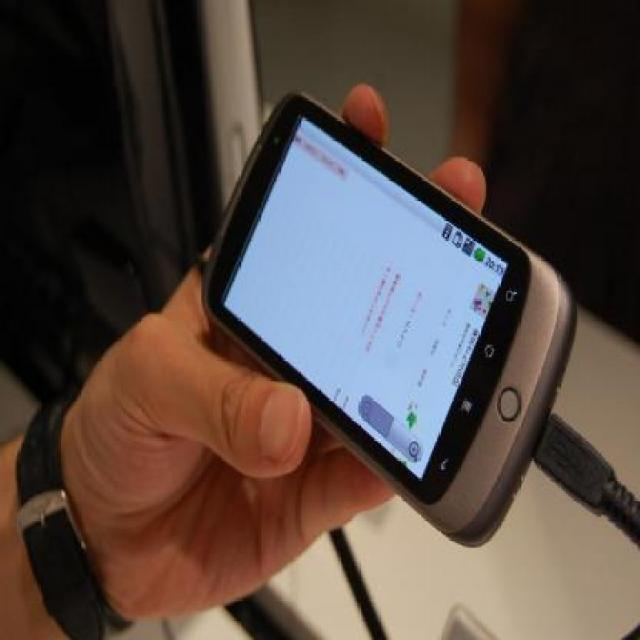phone: (195, 85, 589, 531)
